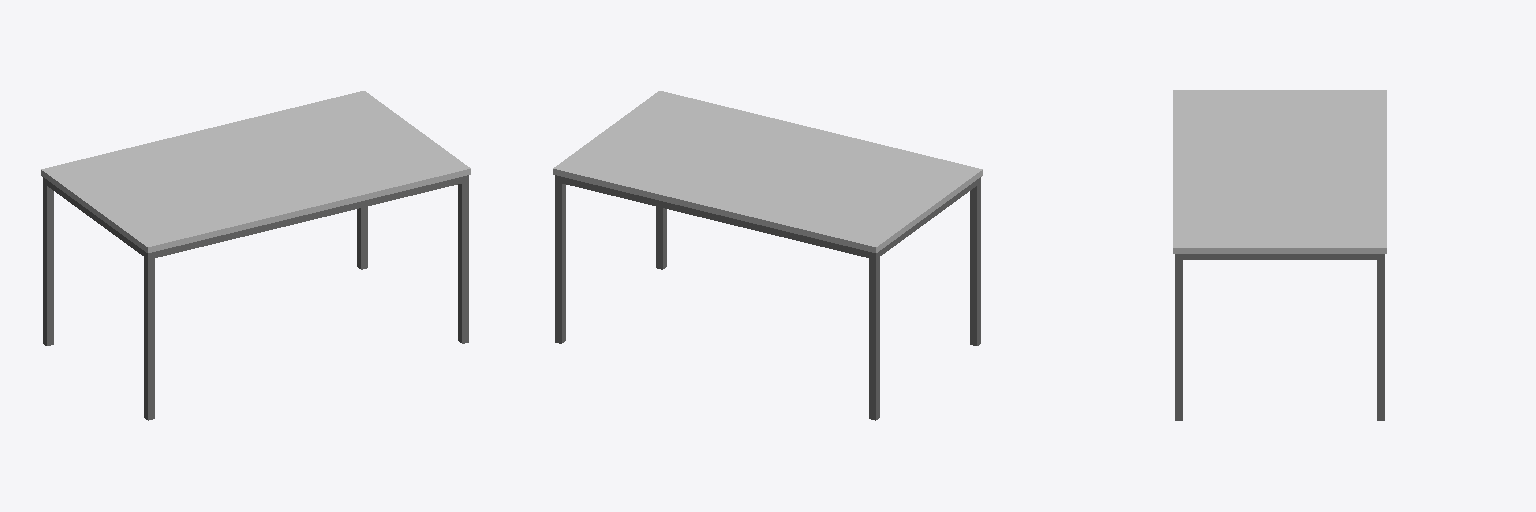
3 renders of one model, left to right at view 1: azimuth 30°, elevation 25°; view 2: azimuth 150°, elevation 25°; view 3: azimuth 270°, elevation 25°, orthographic.
Bounding box in the file's own units: 1.4 × 0.72 × 0.8.
2 materials, 2 textured.